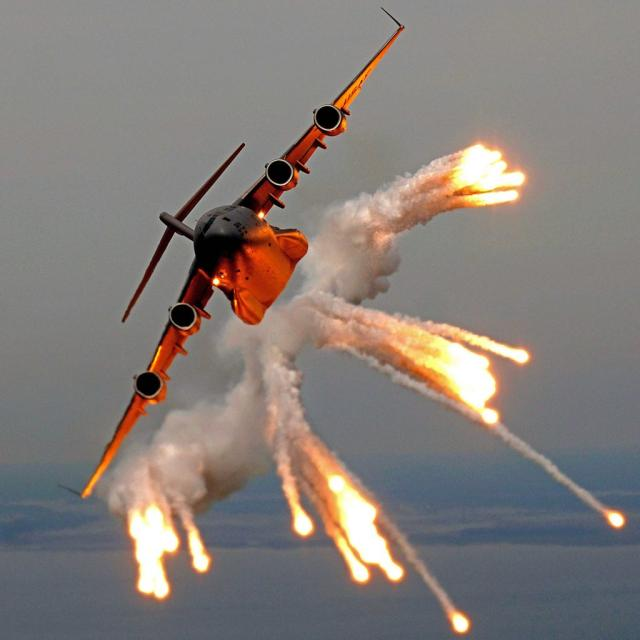MIL_Plane: (57, 219, 404, 289)
